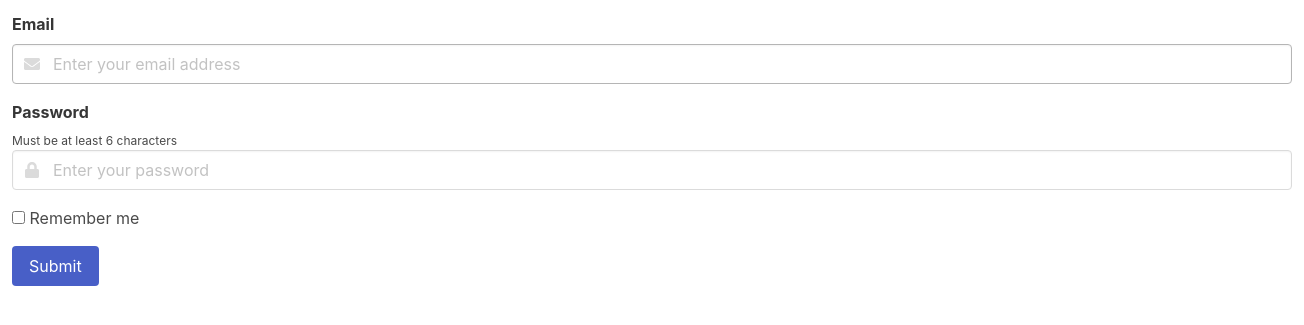
Test case: <Login /> › email › should dynamically display error message when the email value is invalid
Type "johndoe@gmail" into the field labelled "Email" at (652, 64), box [12,44,1292,84]
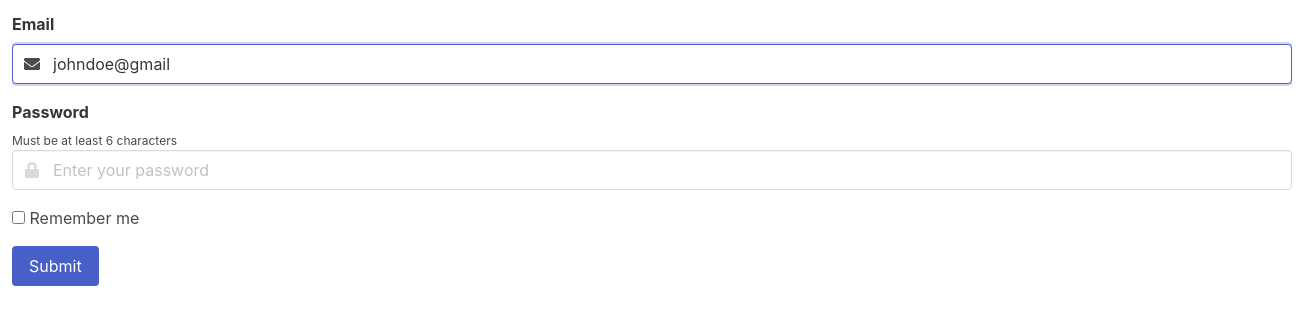
Leave the field labelled "Email", box [12,44,1292,84]
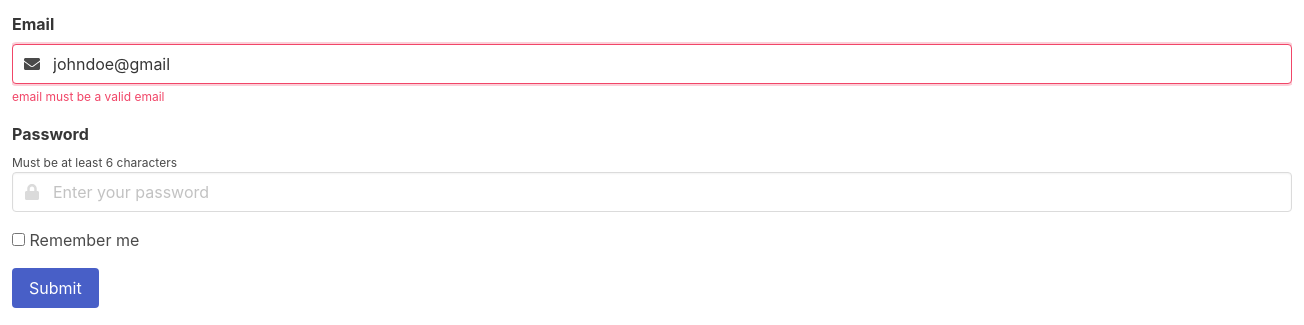
Result: the number of messages is 1 at [12,89,164,104]
